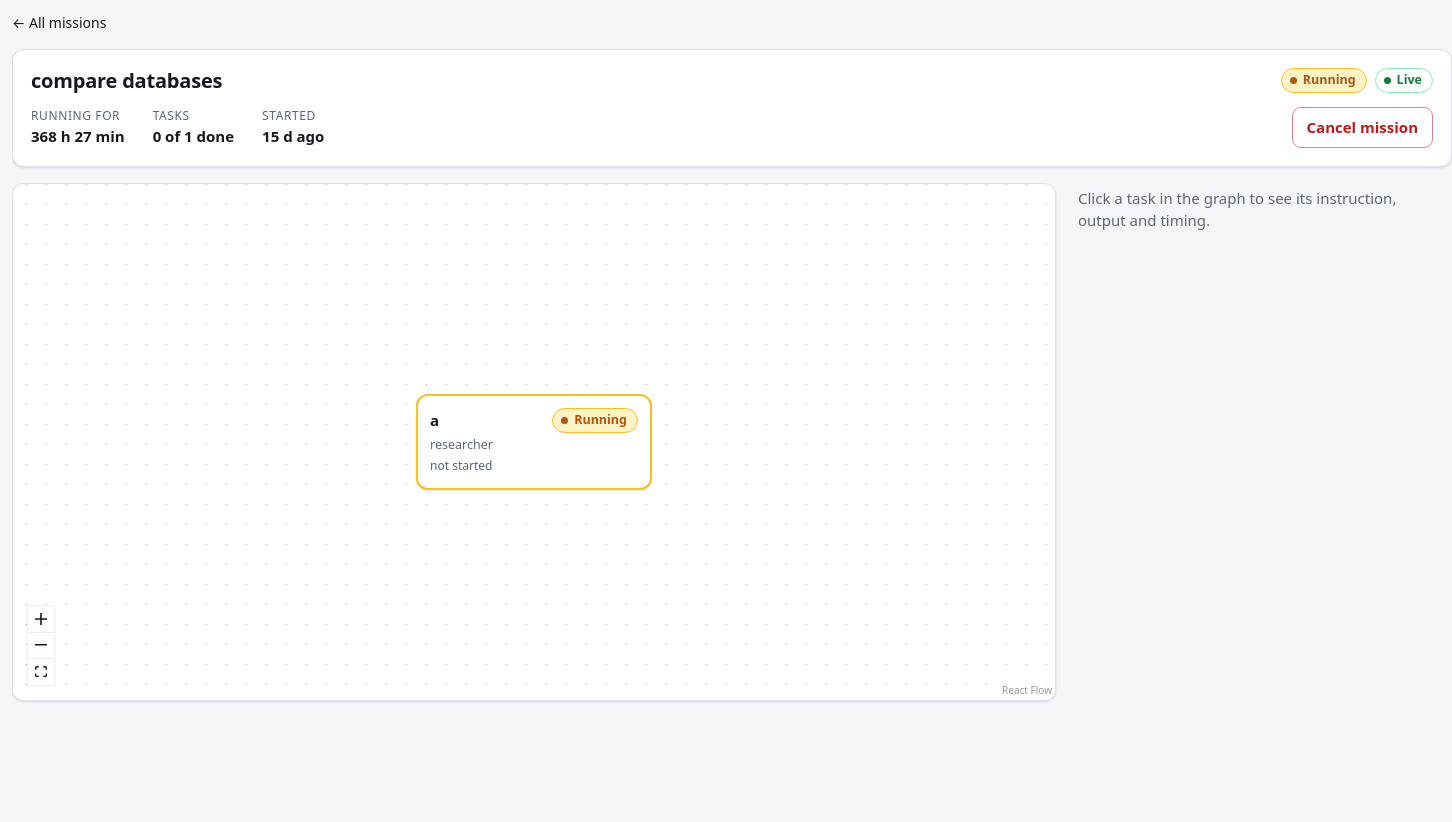
Test: MissionView: cancelling › asks first, and 'keep running' backs out without calling the API
Click the button "Cancel mission" at (1362, 127), box [1292,107,1433,148]
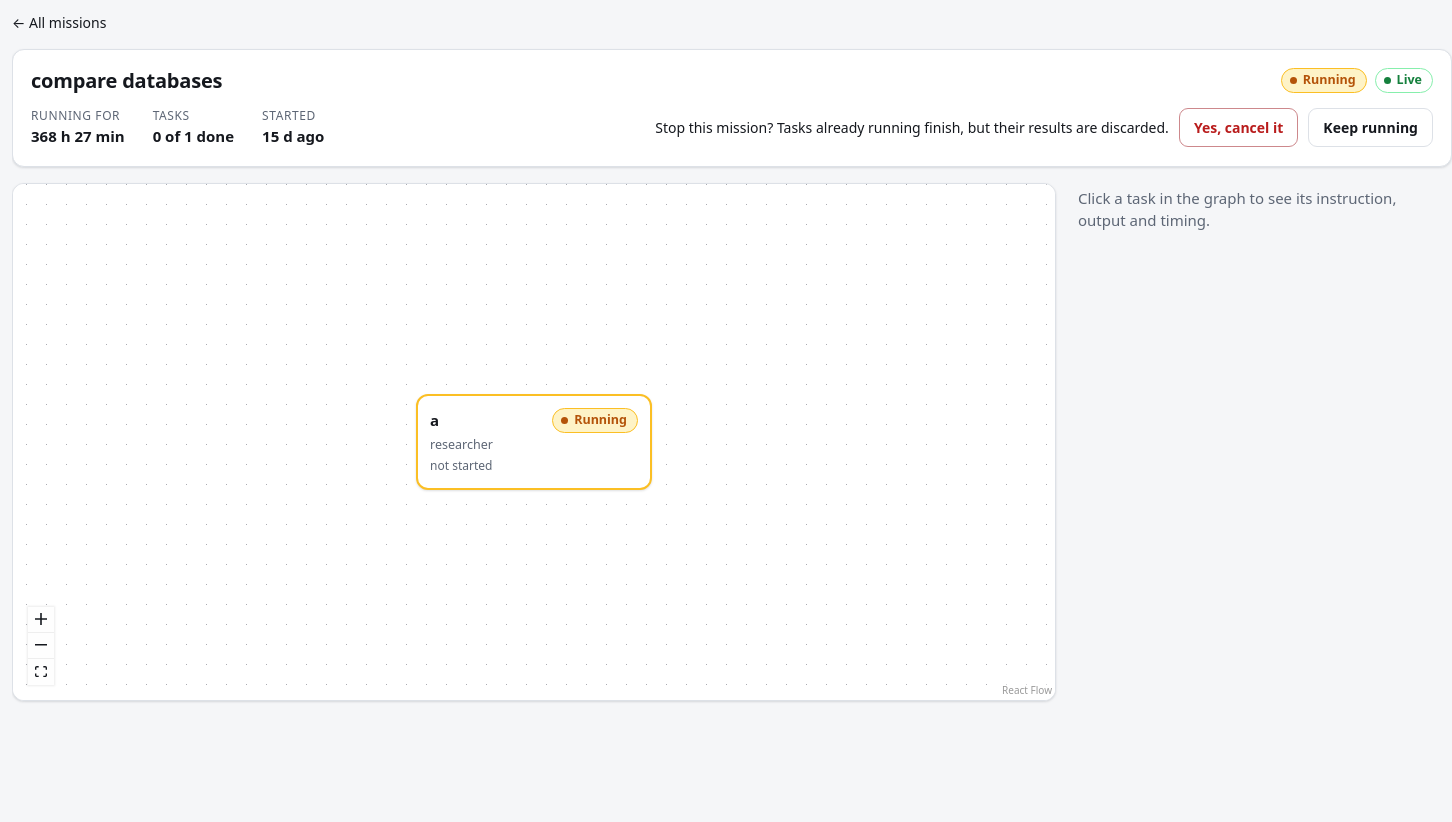
Check: the button "Yes, cancel it" is shown, box [1179,108,1298,147]
Click the button "Keep running" at (1371, 127), box [1308,108,1433,147]
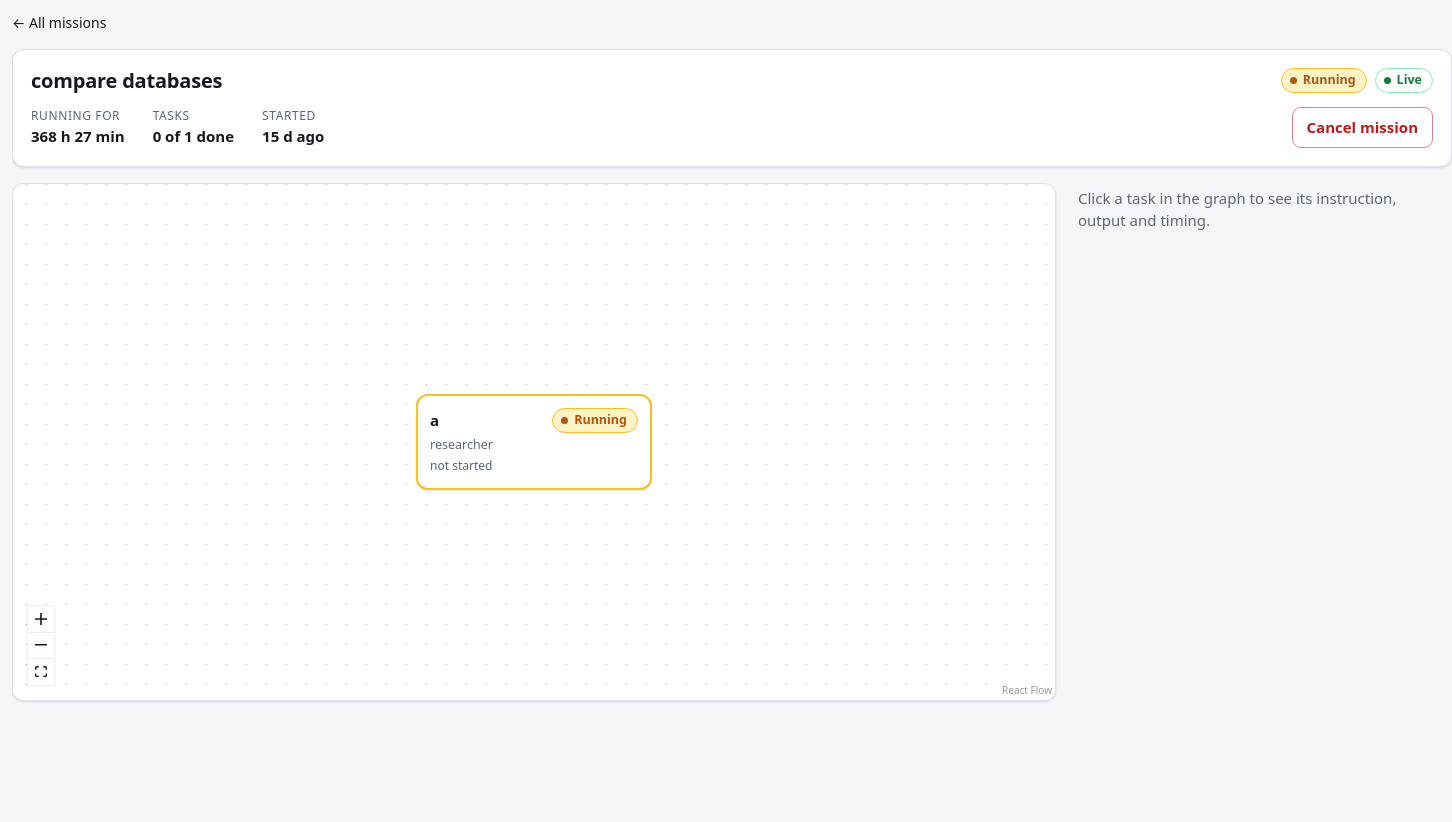
Check: the button "Cancel mission" is shown, box [1292,107,1433,148]
